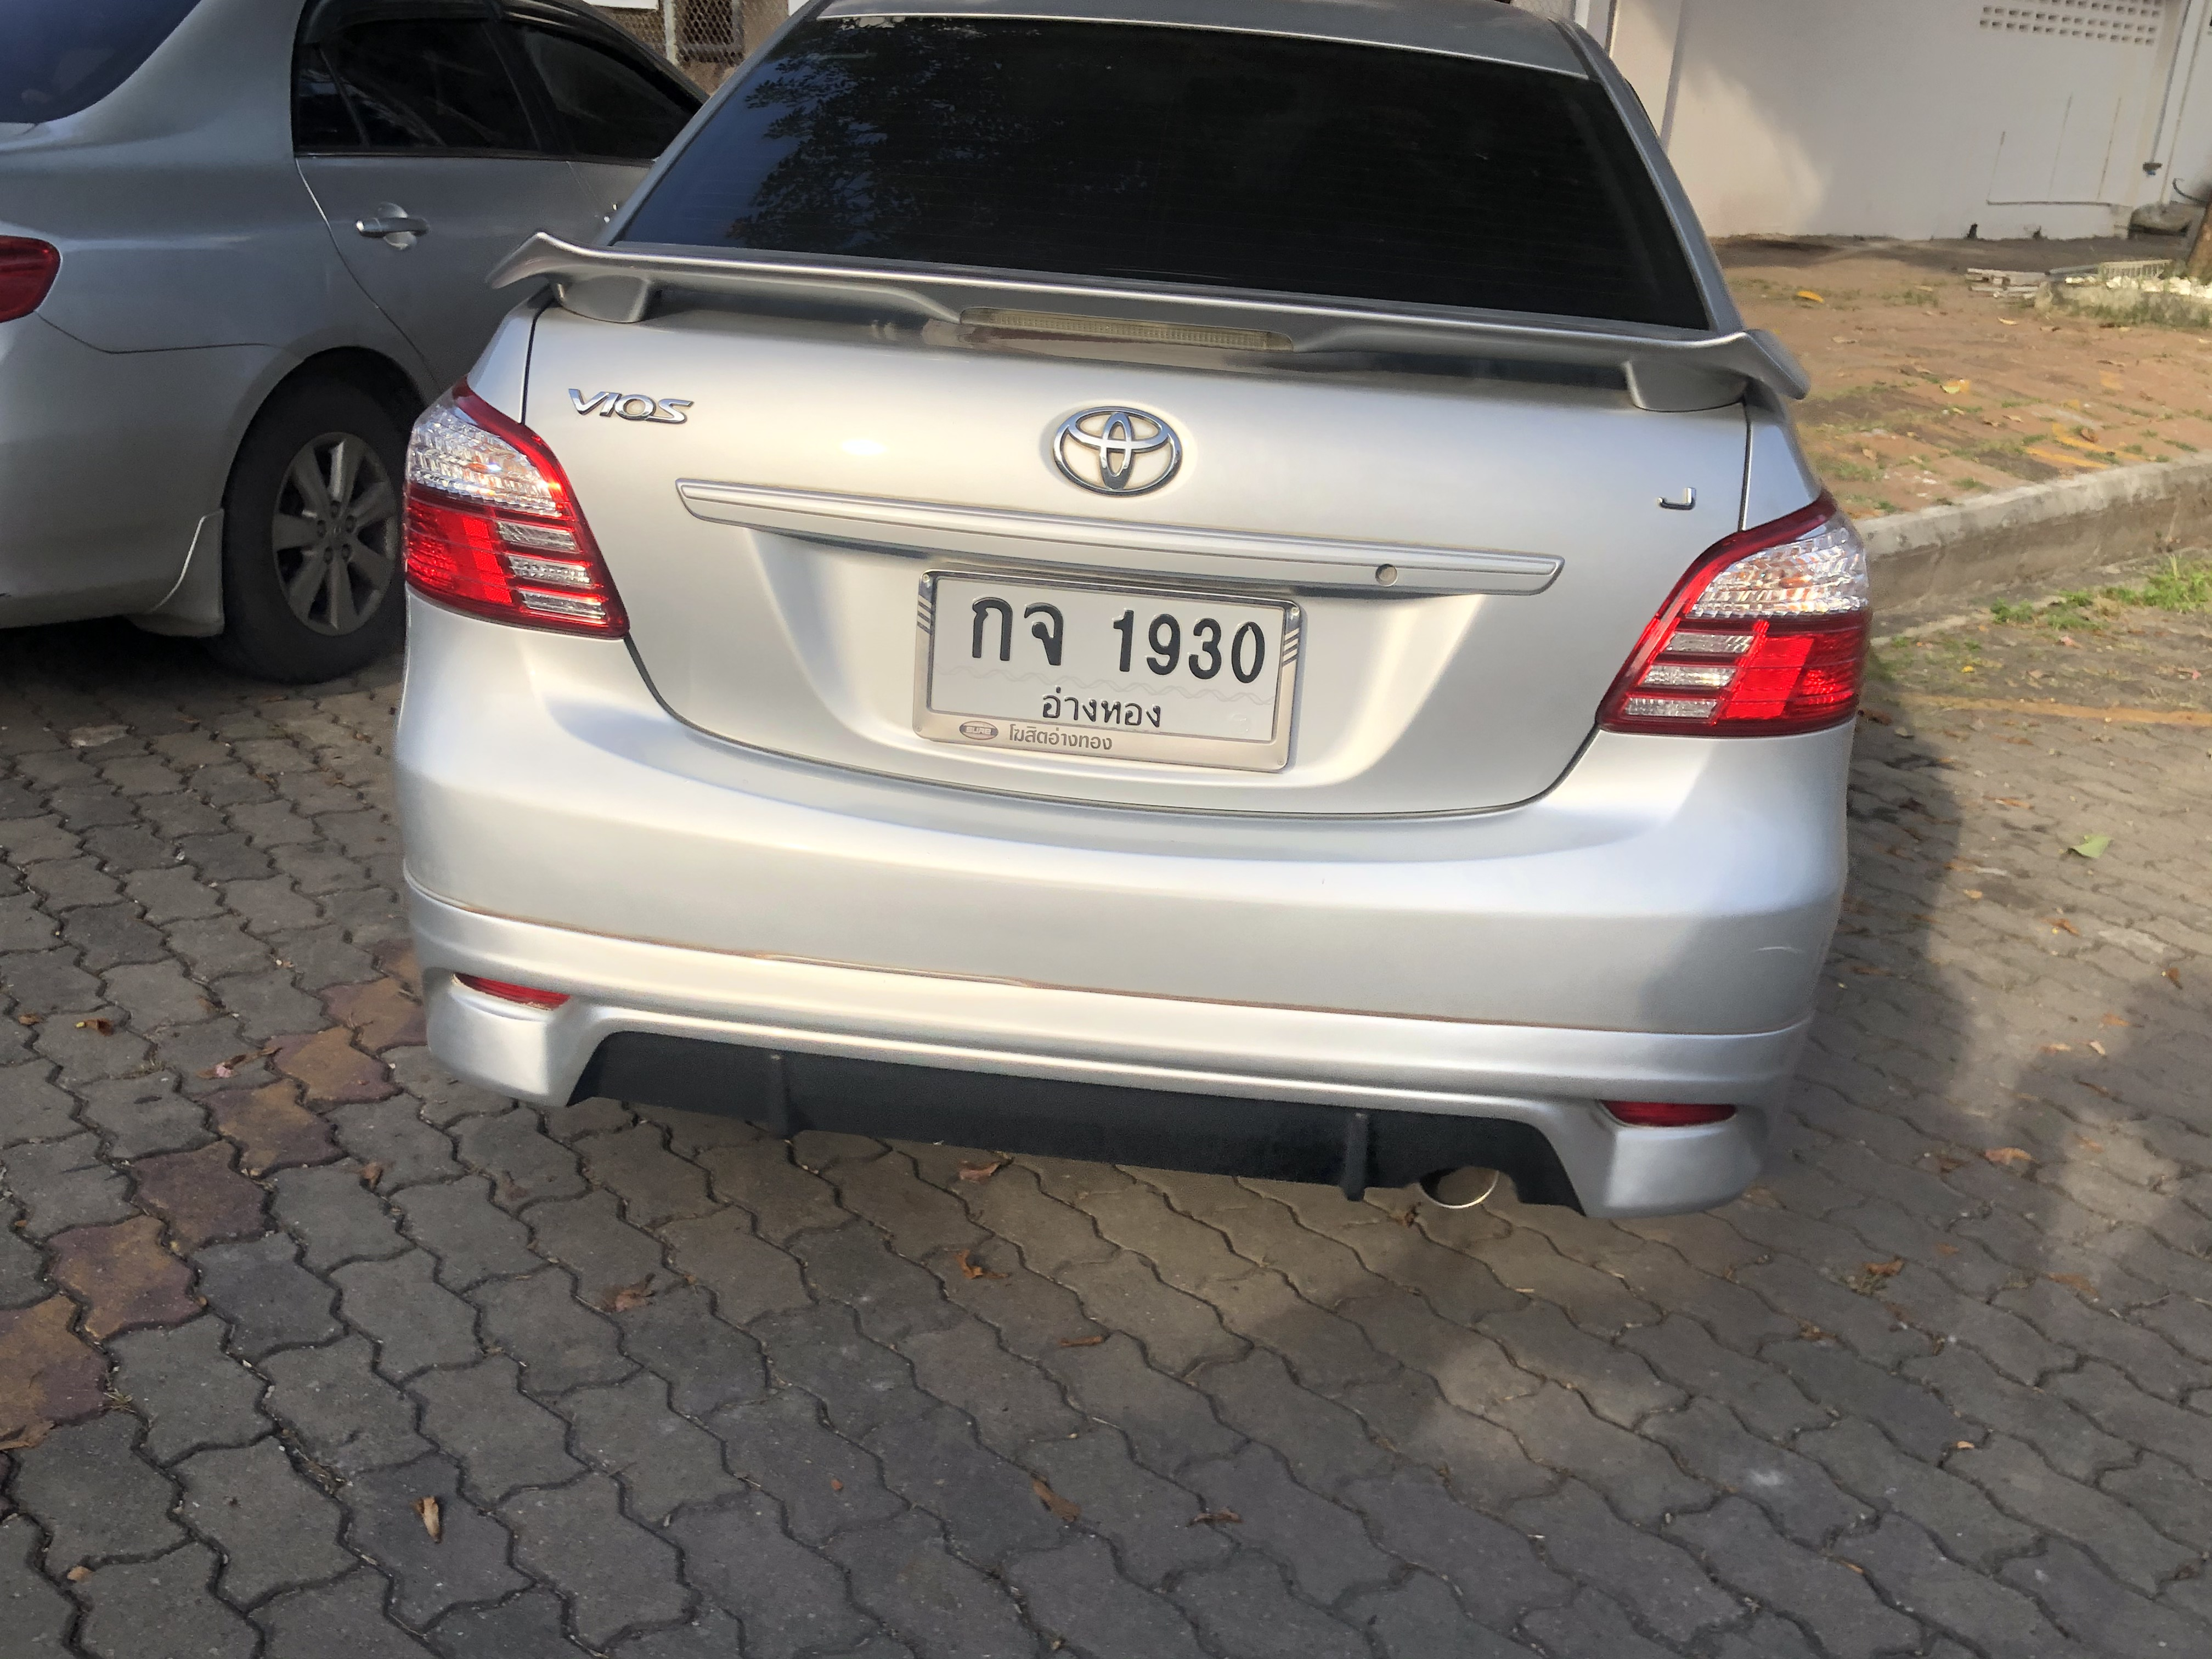in: (935, 575, 1280, 741)
out: (911, 565, 1298, 770)
